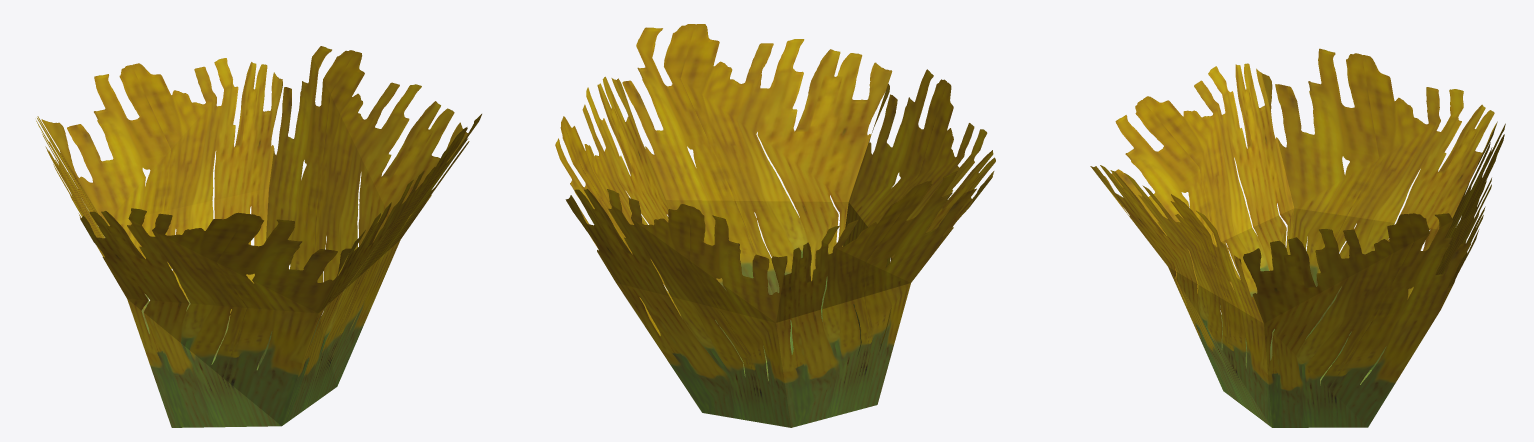
3 views of the same model, side by side, from view 1: azimuth 30°, elevation 25°; view 2: azimuth 150°, elevation 25°; view 3: azimuth 270°, elevation 25° (orthographic). The views are drawn at different scales.
Visible parts, largest first — view 1: BT_4_F_1_3; view 2: BT_4_F_1_3; view 3: BT_4_F_1_3.
Part boxes in pixels (x1,y1,x2,y2): BT_4_F_1_3: (36,46,481,427); BT_4_F_1_3: (555,24,995,427); BT_4_F_1_3: (1090,48,1505,427).
Bounding box in the file's own units: 3.55 × 2.31 × 3.35.
Materials: 1 (1 with a texture image).
